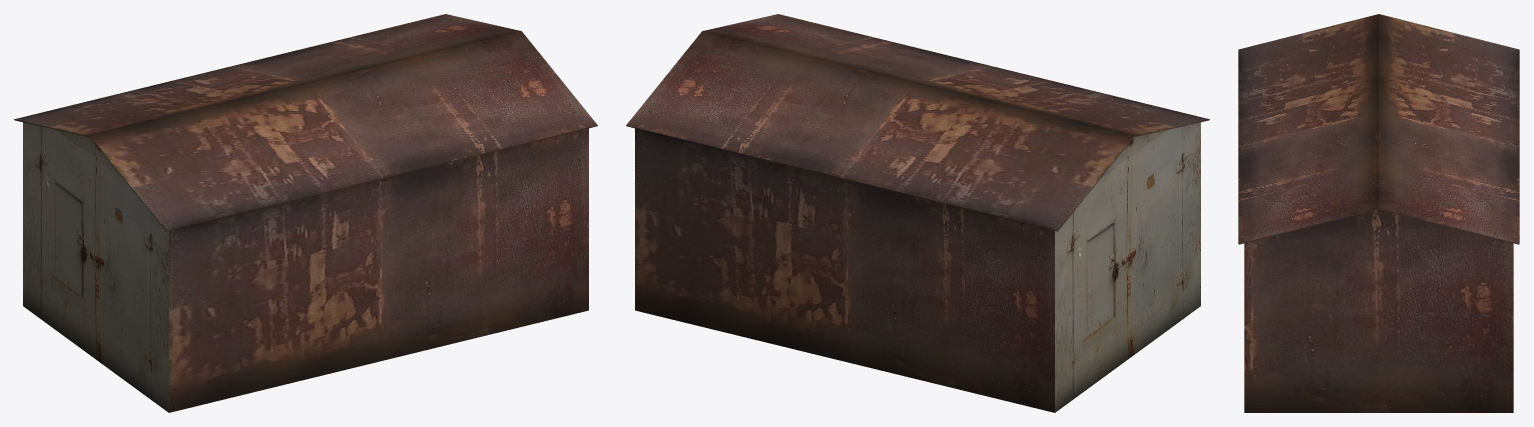
The model's file is гараж трупы.fbx.
3 views of the same model, side by side, from view 1: azimuth 30°, elevation 25°; view 2: azimuth 150°, elevation 25°; view 3: azimuth 270°, elevation 25° (orthographic). The views are drawn at different scales.
Parts seen in each view (by area): view 1: Box001, Box001.001, Box001.002, Box001.003; view 2: Box001, Box001.001, Box001.002, Box001.003; view 3: Box001.
Boxes of the visible parts, x1=… form: Box001: x1=14, y1=14, x2=597, y2=412; Box001.001: x1=96, y1=158, x2=150, y2=399; Box001.002: x1=41, y1=126, x2=95, y2=359; Box001.003: x1=55, y1=183, x2=82, y2=297; Box001: x1=626, y1=14, x2=1209, y2=412; Box001.001: x1=1128, y1=126, x2=1182, y2=359; Box001.002: x1=1073, y1=158, x2=1127, y2=399; Box001.003: x1=1087, y1=223, x2=1114, y2=336; Box001: x1=1238, y1=14, x2=1519, y2=412.
Size of the model in its own units: 475 by 236 by 290.
